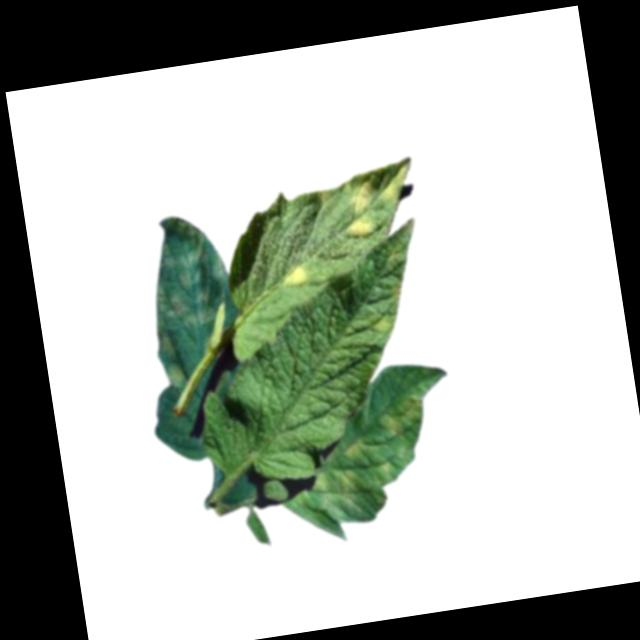Leaf_Mold: (279, 388, 445, 528), (136, 208, 244, 389), (332, 155, 421, 243), (356, 304, 396, 340), (277, 263, 310, 293)
